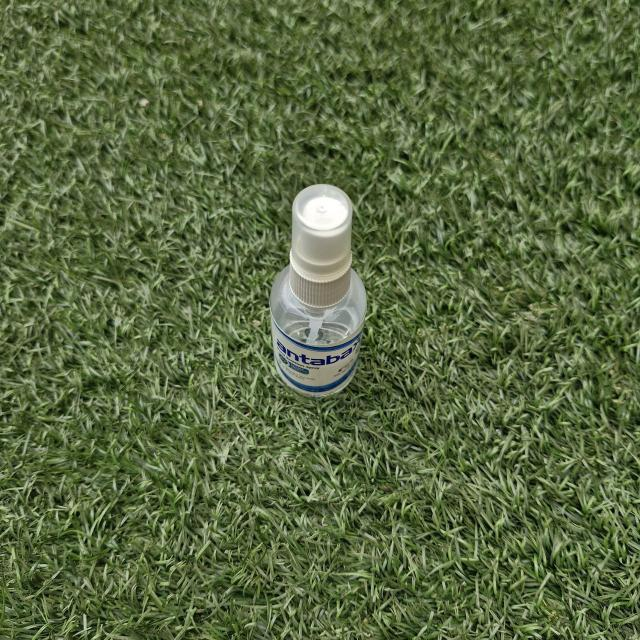plastic: (265, 178, 371, 404)
